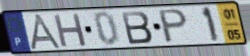0: (93, 10, 121, 48)
1: (200, 5, 222, 44)
A: (29, 13, 65, 51)
B: (119, 10, 154, 46)
H: (52, 12, 89, 49)
P: (157, 8, 190, 45)
